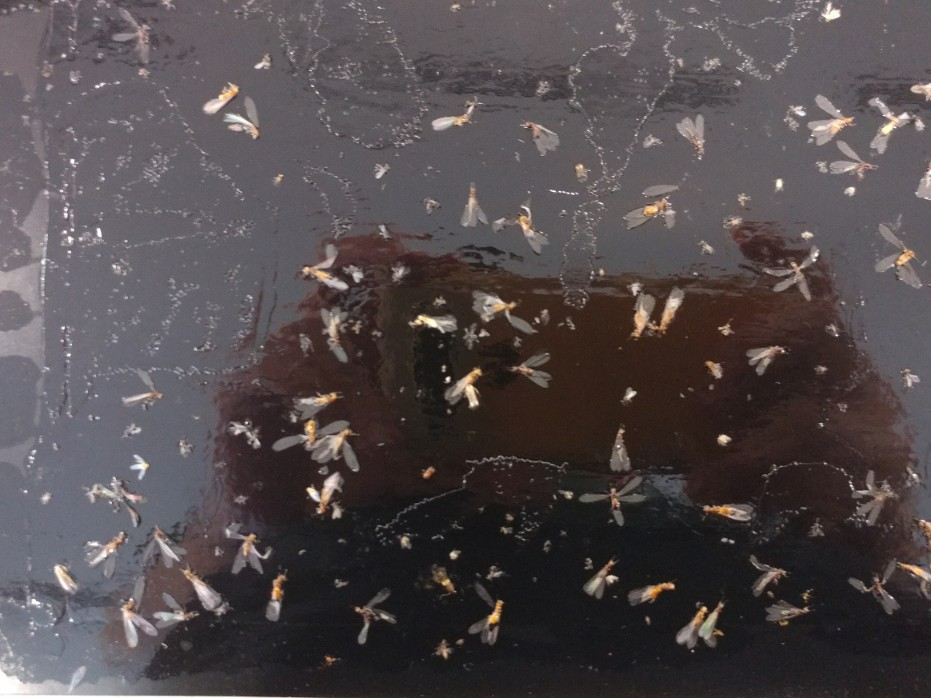termite: (627, 290, 656, 347), (264, 568, 292, 622)
